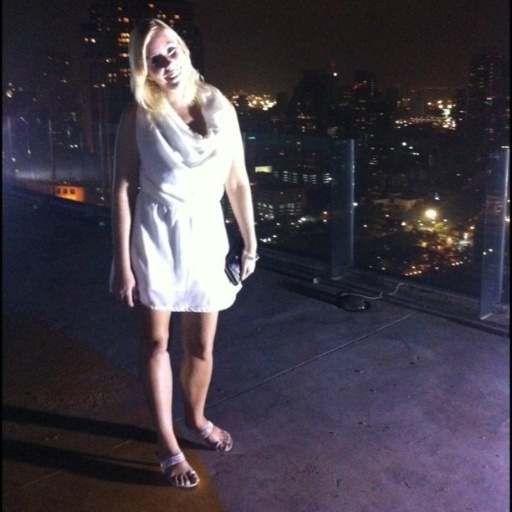hand: (110, 263, 138, 307), (238, 248, 256, 282)
